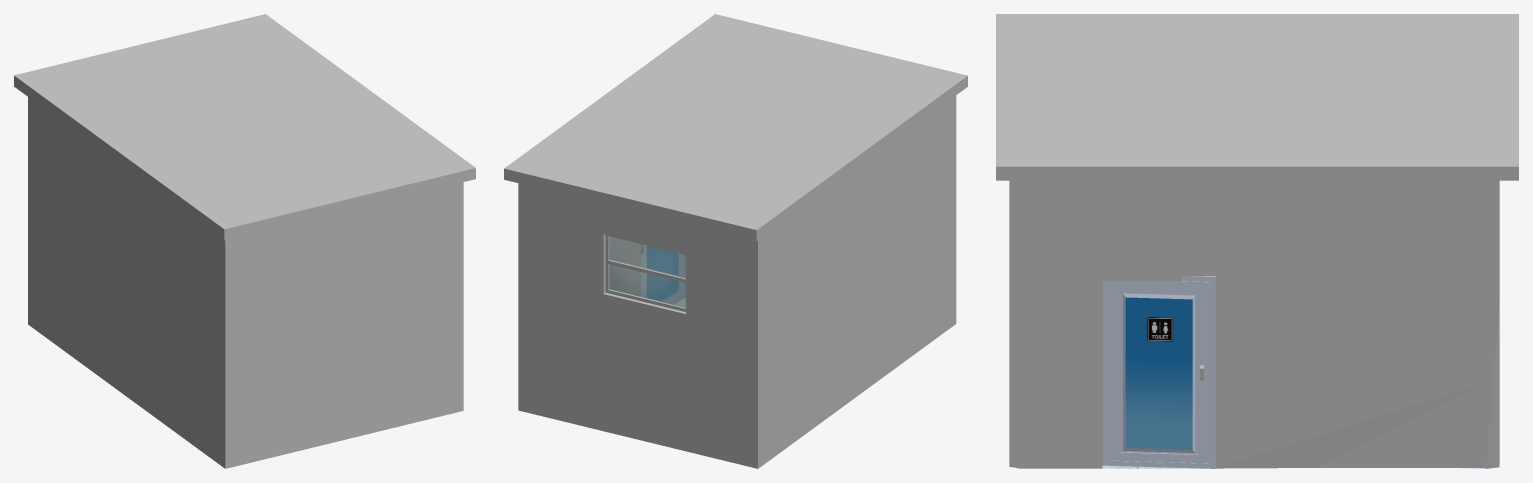
File: Bathroom_Collider.fbx
The picture shows the model from 3 angles, left to right: view 1: azimuth 30°, elevation 25°; view 2: azimuth 150°, elevation 25°; view 3: azimuth 270°, elevation 25°; orthographic projection. The views are drawn at different scales.
Visible parts, largest first — view 1: Bathroom_Collider; view 2: Bathroom_Collider; view 3: Bathroom_Collider.
Part boxes in pixels (x1,y1,x2,y2): Bathroom_Collider: (14, 14, 475, 468); Bathroom_Collider: (504, 14, 967, 468); Bathroom_Collider: (996, 14, 1518, 468).
Size of the model in its own units: 818 by 765 by 1184.
